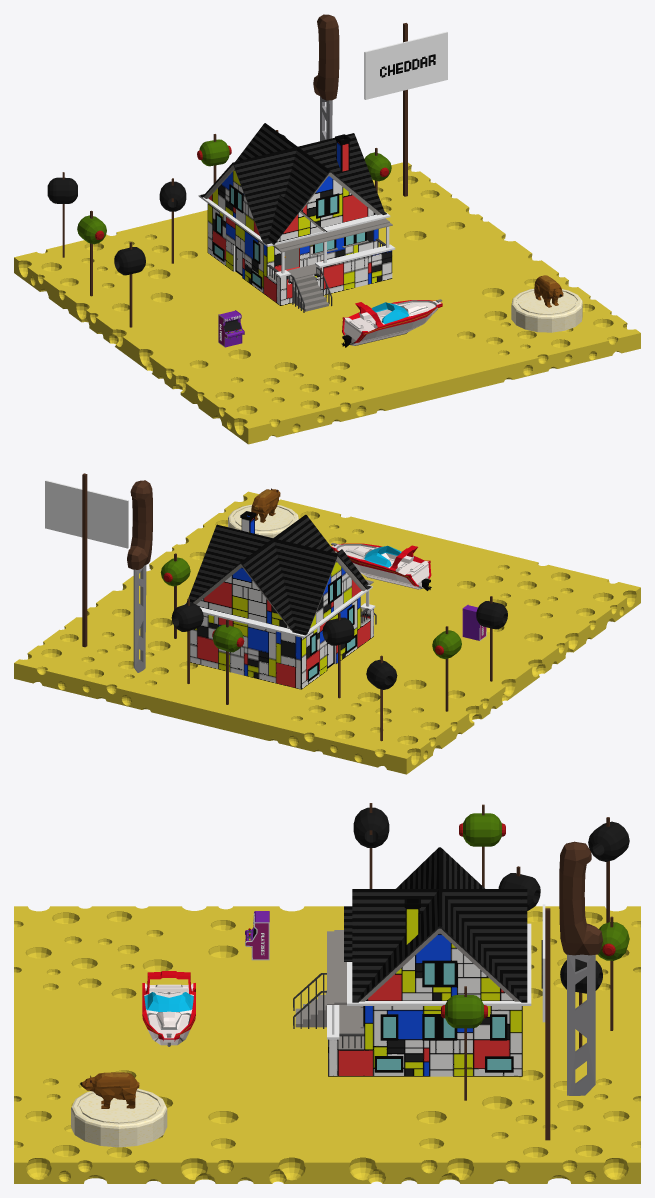
3 renders of one model, top to bottom at view 1: azimuth 30°, elevation 25°; view 2: azimuth 150°, elevation 25°; view 3: azimuth 270°, elevation 25°, orthographic. The views are drawn at different scales.
Visible parts, largest first — view 1: Cube.022, Cube.840, Cube.023, VEHICLES_BOAT, Cylinder.016, Cube.024, Sphere.017, Sphere.016, Sphere.020, Sphere.018, OBJRANDOM_ARCADE, Sphere.022 (+2 smaller); view 2: Cube.022, Cube.840, Cube.023, Cube.024, VEHICLES_BOAT, Cylinder.016, Sphere.017, Sphere.020, Sphere.021, Sphere.016, Sphere.018, Sphere.022 (+3 smaller); view 3: Cube.022, Cube.840, Cube.024, Cylinder.016, VEHICLES_BOAT, Cube.023, Sphere.019, Sphere.016, ANIMAL_OSO, Sphere.018, Sphere.017, Sphere.022 (+3 smaller).
Boxes of the visible parts, left/top/right/bottom form: Cube.022: left=14, top=162, right=640, bottom=444; Cube.840: left=198, top=123, right=395, bottom=312; Cube.023: left=364, top=23, right=447, bottom=196; VEHICLES_BOAT: left=341, top=299, right=442, bottom=347; Cylinder.016: left=511, top=288, right=582, bottom=332; Cube.024: left=313, top=14, right=339, bottom=141; Sphere.017: left=114, top=242, right=145, bottom=327; Sphere.016: left=47, top=172, right=77, bottom=257; Sphere.020: left=159, top=178, right=186, bottom=263; Sphere.018: left=77, top=210, right=106, bottom=296; OBJRANDOM_ARCADE: left=218, top=310, right=244, bottom=347; Sphere.022: left=197, top=134, right=231, bottom=183; Cube.022: left=14, top=491, right=640, bottom=774; Cube.840: left=184, top=511, right=376, bottom=689; Cube.023: left=45, top=473, right=128, bottom=647; Cube.024: left=127, top=480, right=152, bottom=672; VEHICLES_BOAT: left=331, top=542, right=431, bottom=590; Cylinder.016: left=228, top=504, right=298, bottom=537; Sphere.017: left=476, top=596, right=507, bottom=681; Sphere.020: left=322, top=612, right=354, bottom=698; Sphere.021: left=171, top=598, right=203, bottom=683; Sphere.016: left=366, top=655, right=397, bottom=741; Sphere.018: left=432, top=626, right=461, bottom=711; Sphere.022: left=212, top=619, right=244, bottom=704; Cube.022: left=14, top=906, right=640, bottom=1183; Cube.840: left=293, top=847, right=531, bottom=1076; Cube.024: left=559, top=841, right=602, bottom=1095; Cylinder.016: left=71, top=1088, right=167, bottom=1147; VEHICLES_BOAT: left=142, top=971, right=195, bottom=1046; Cube.023: left=541, top=904, right=550, bottom=1140; Sphere.019: left=441, top=986, right=487, bottom=1100; Sphere.016: left=588, top=817, right=629, bottom=922; ANIMAL_OSO: left=80, top=1072, right=139, bottom=1108; Sphere.018: left=459, top=804, right=505, bottom=887; Sphere.017: left=353, top=803, right=389, bottom=888; Sphere.022: left=598, top=916, right=629, bottom=1030.
Bounding box in the file's own units: 3917 × 2007 × 4000.
38 materials, 4 textured.
